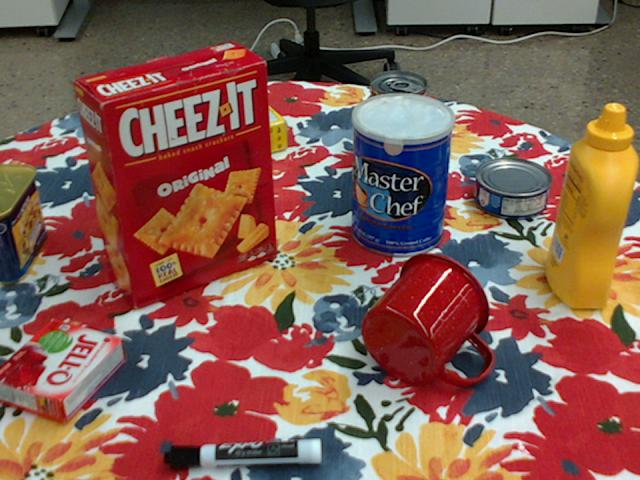cracker_box: (72, 42, 272, 306)
gelatin_box: (0, 319, 126, 423)
large_marker: (164, 439, 322, 469)
master_chef_can: (352, 94, 454, 258)
mug: (362, 252, 492, 384)
mustard_bottle: (543, 105, 635, 309)
potted_meat_can: (0, 162, 44, 283)
sugar_box: (125, 95, 285, 181)
tomato_soup_can: (368, 71, 426, 171)
tuna_fish_can: (474, 159, 552, 220)
